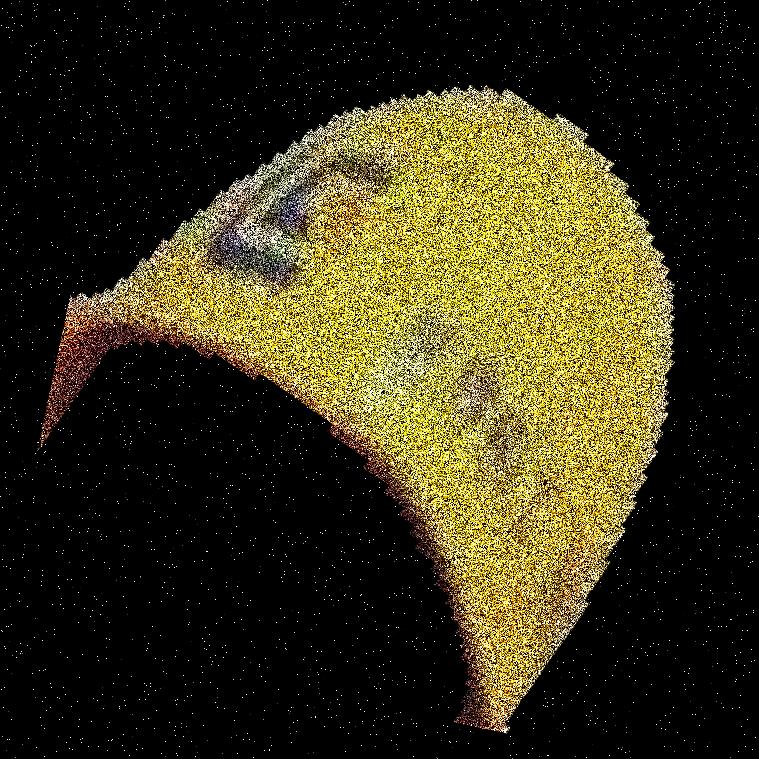Capacete: (328, 0, 660, 758)
